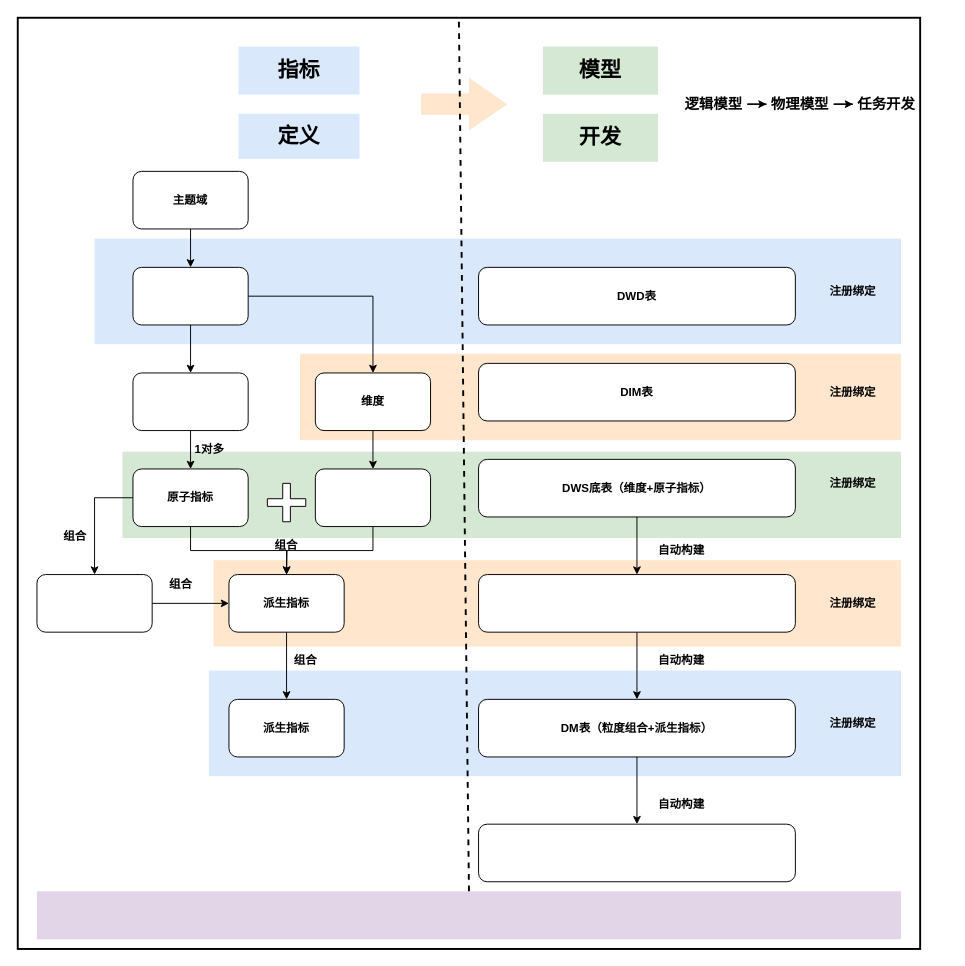
Image size: 965x966. Some labels were removed from this diagram. Here are the shapes that lost their labels. From the top down, the box of each, then its label:
(132, 266, 248, 325): 业务过程
(132, 372, 248, 431): 定义度量
(314, 468, 431, 527): 派生词
(36, 574, 152, 632): 衍生原子指标
(478, 574, 795, 632): DWS汇表（粒度组合+派生指标）
(478, 823, 795, 882): 网关服务
(36, 891, 900, 939): 指标地图
